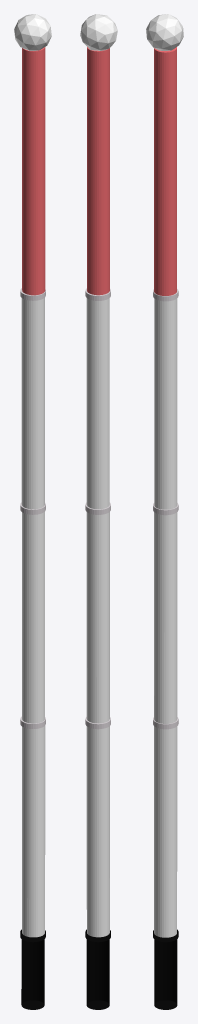
File: WhiteCane.fbx
The picture shows the model from 3 angles, left to right: view 1: azimuth 90°, elevation 25°; view 2: azimuth 150°, elevation 25°; view 3: azimuth 330°, elevation 25°; orthographic projection.
Parts seen in each view (by area): view 1: 柱体.004; view 2: 柱体.004; view 3: 柱体.004.
Part boxes in pixels (x1,y1,x2,y2): 柱体.004: [14, 14, 51, 1009]; 柱体.004: [80, 14, 117, 1009]; 柱体.004: [146, 14, 183, 1009].
Size of the model in its own units: 0.0476 by 1.42 by 0.049.
